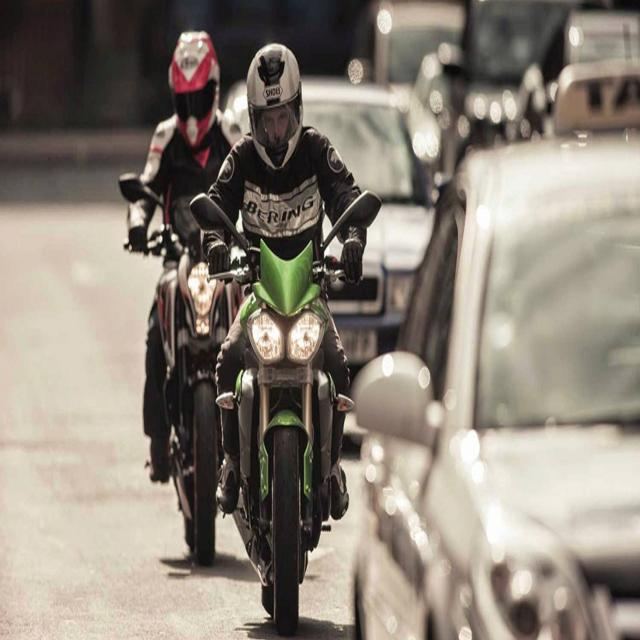With Helmet: (214, 38, 380, 640), (138, 20, 263, 635)
